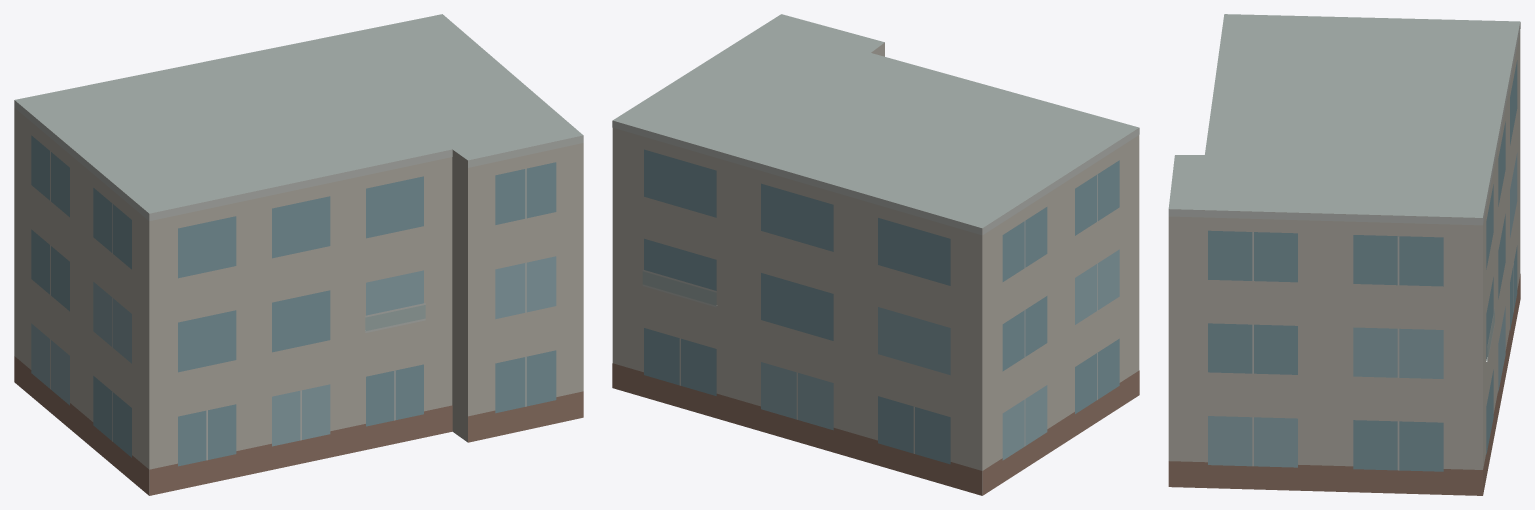
Rendered from survey-upis-32659534.glb.
The picture shows the model from 3 angles, left to right: view 1: azimuth 30°, elevation 25°; view 2: azimuth 150°, elevation 25°; view 3: azimuth 270°, elevation 25°; orthographic projection. The views are drawn at different scales.
Parts seen in each view (by area): view 1: survey-upis-32659534.tmp; view 2: survey-upis-32659534.tmp; view 3: survey-upis-32659534.tmp.
Boxes of the visible parts, box(x1,y1,x2,y2) form: survey-upis-32659534.tmp: box(14, 14, 583, 495); survey-upis-32659534.tmp: box(612, 14, 1139, 495); survey-upis-32659534.tmp: box(1168, 14, 1520, 495).
Bounding box in the file's own units: 14.42 × 9.15 × 10.51.
